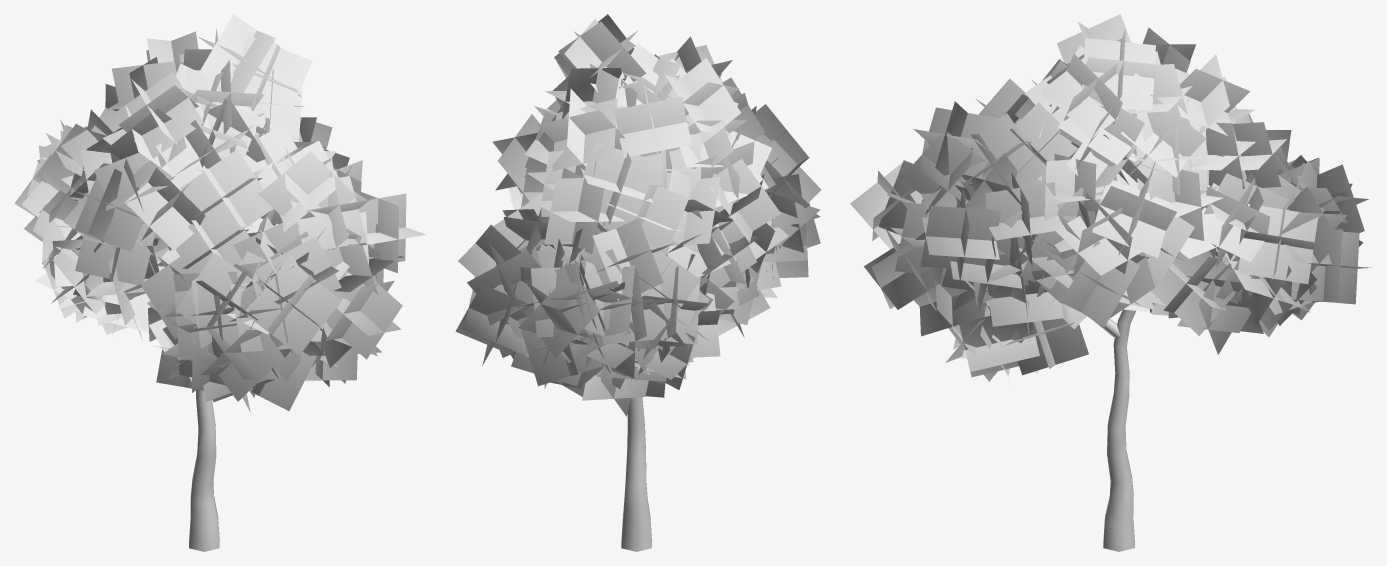
File: STOak4.glb
The picture shows the model from 3 angles, left to right: view 1: azimuth 30°, elevation 25°; view 2: azimuth 150°, elevation 25°; view 3: azimuth 270°, elevation 25°; orthographic projection. The views are drawn at different scales.
Visible parts, largest first — view 1: Leaf.068; view 2: Leaf.068; view 3: Leaf.068.
Part boxes in pixels (x1,y1,x2,y2): Leaf.068: (14,14,425,551); Leaf.068: (455,14,821,551); Leaf.068: (850,14,1371,551).
Size of the model in its own units: 12.14 by 22.47 by 20.
2 materials, 1 textured.
